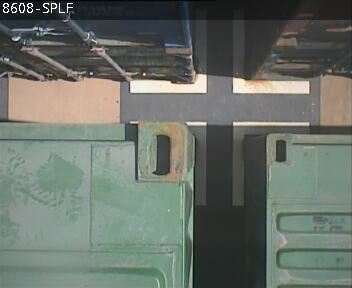groundmarker_1: (128, 12, 308, 95), (189, 120, 310, 204)
